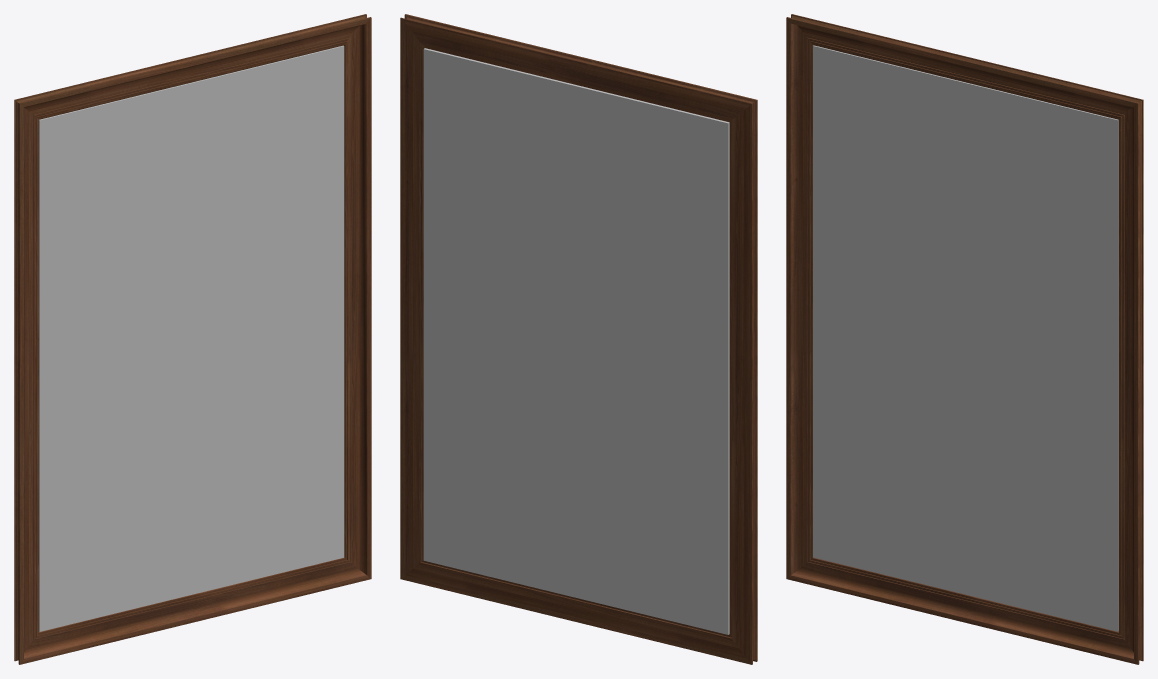
The model's file is picture.fbx.
3 views of the same model, side by side, from view 1: azimuth 30°, elevation 25°; view 2: azimuth 150°, elevation 25°; view 3: azimuth 330°, elevation 25° (orthographic).
Parts seen in each view (by area): view 1: pCube1, mirror:Rectangle001, mirror:Object001; view 2: pCube1, mirror:Rectangle001, mirror:Object001; view 3: pCube1, mirror:Rectangle001, mirror:Object001.
Boxes of the visible parts, x1,y1,x2,y2 form: pCube1: (39, 45, 344, 631); mirror:Rectangle001: (14, 14, 371, 664); mirror:Object001: (14, 14, 370, 664); pCube1: (423, 48, 729, 634); mirror:Rectangle001: (400, 14, 757, 664); mirror:Object001: (400, 14, 756, 664); pCube1: (813, 45, 1118, 631); mirror:Rectangle001: (786, 15, 1143, 664); mirror:Object001: (786, 14, 1142, 664).
Size of the model in its own units: 574 by 874 by 16.58.
